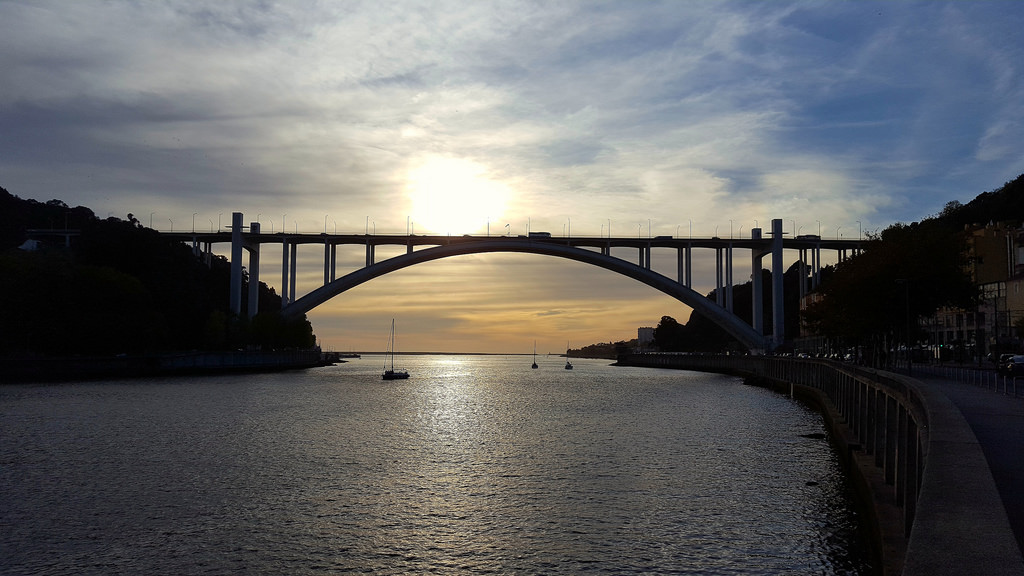arrabida: (147, 210, 891, 351)
